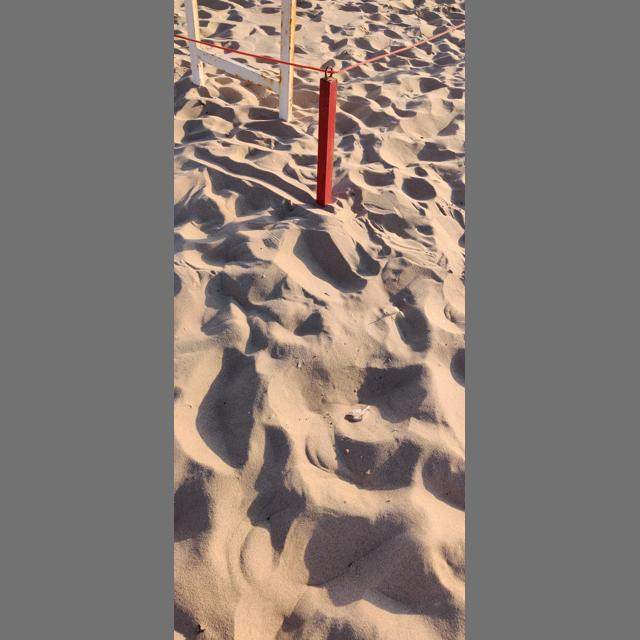litter: (346, 406, 371, 421), (227, 132, 230, 136)
